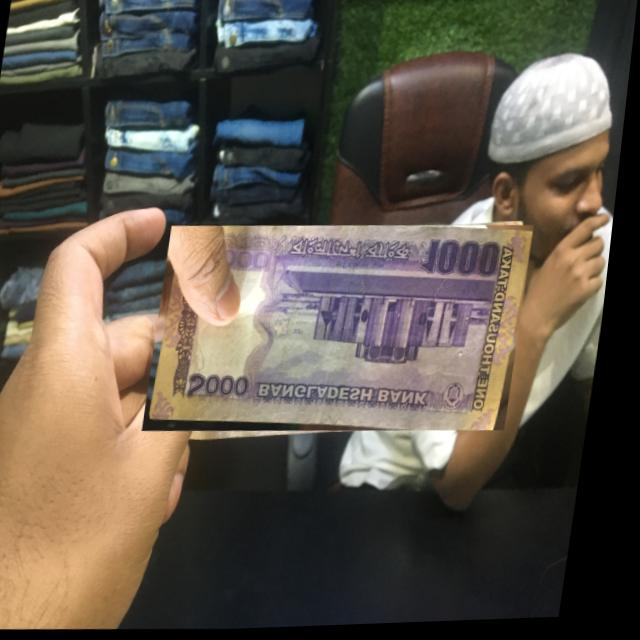Taka: (151, 216, 541, 445)
